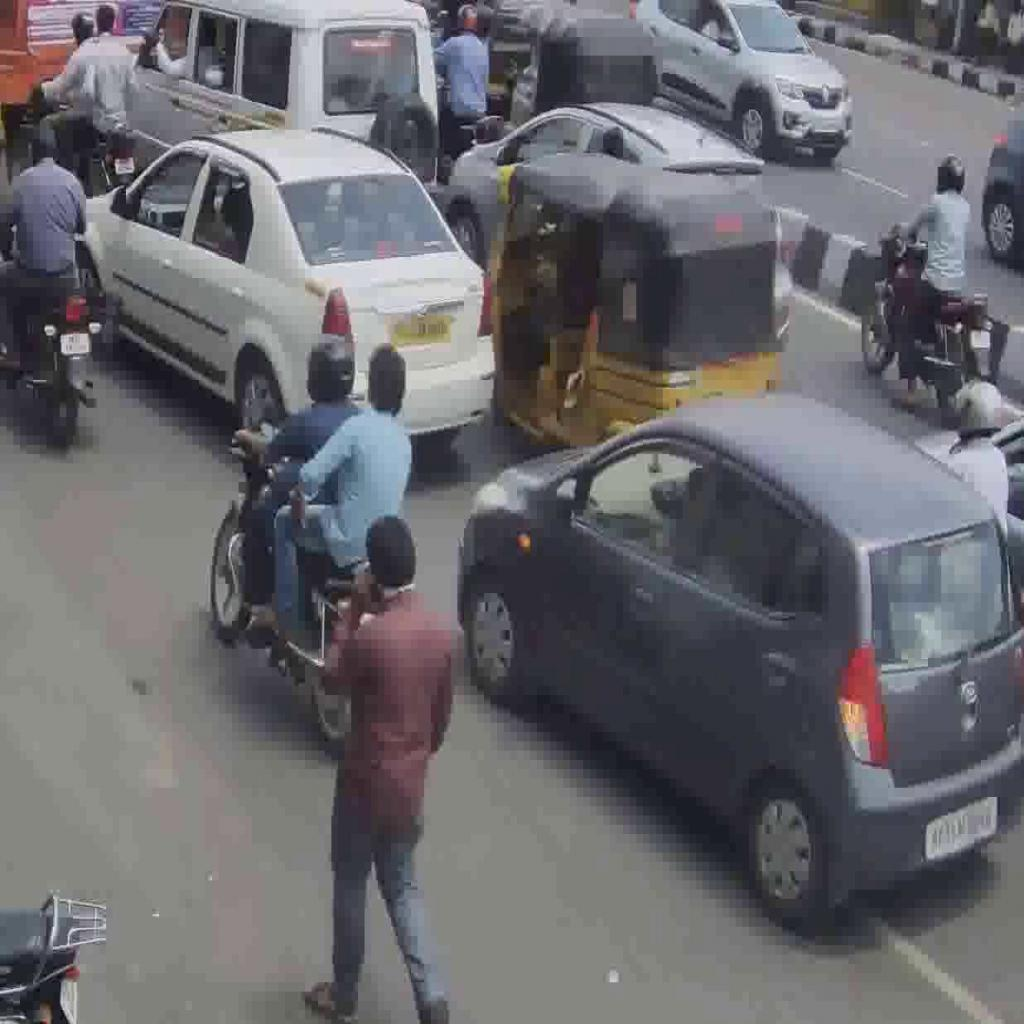helmet: (209, 405, 393, 741), (861, 220, 993, 420), (2, 225, 104, 448), (19, 78, 138, 190)
